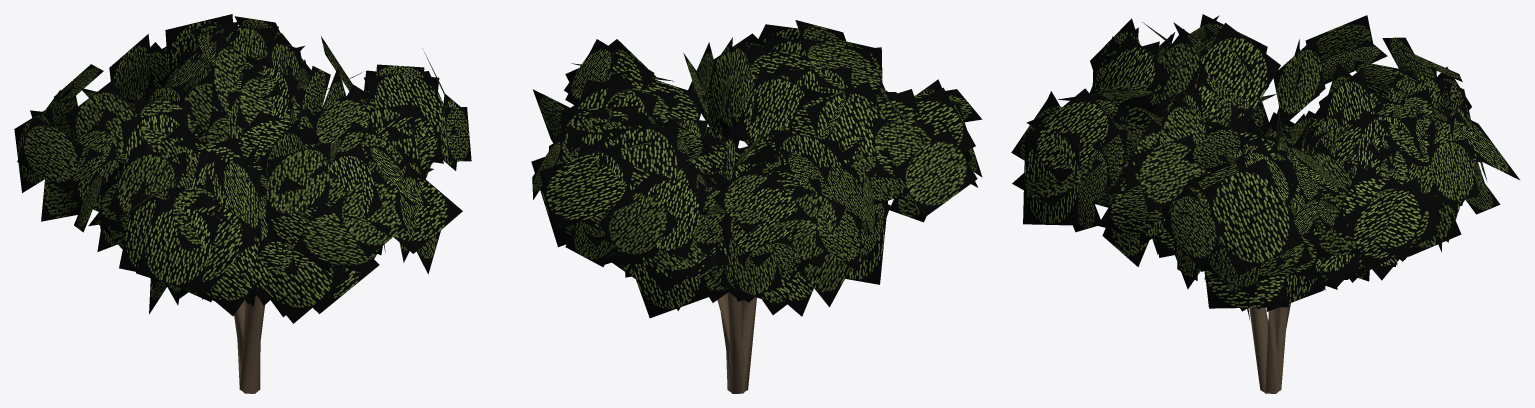
The model's file is andes_pacay_lod0.glb.
3 views of the same model, side by side, from view 1: azimuth 30°, elevation 25°; view 2: azimuth 150°, elevation 25°; view 3: azimuth 270°, elevation 25° (orthographic). The views are drawn at different scales.
Visible parts, largest first — view 1: GEO-Andes_pacay_LOD0; view 2: GEO-Andes_pacay_LOD0; view 3: GEO-Andes_pacay_LOD0.
Boxes of the visible parts, box(x1,y1,x2,y2) form: GEO-Andes_pacay_LOD0: box(14, 14, 471, 393); GEO-Andes_pacay_LOD0: box(531, 20, 982, 393); GEO-Andes_pacay_LOD0: box(1011, 14, 1520, 393).
Size of the model in its own units: 5.46 by 4.08 by 5.74.
2 materials, 1 textured.
